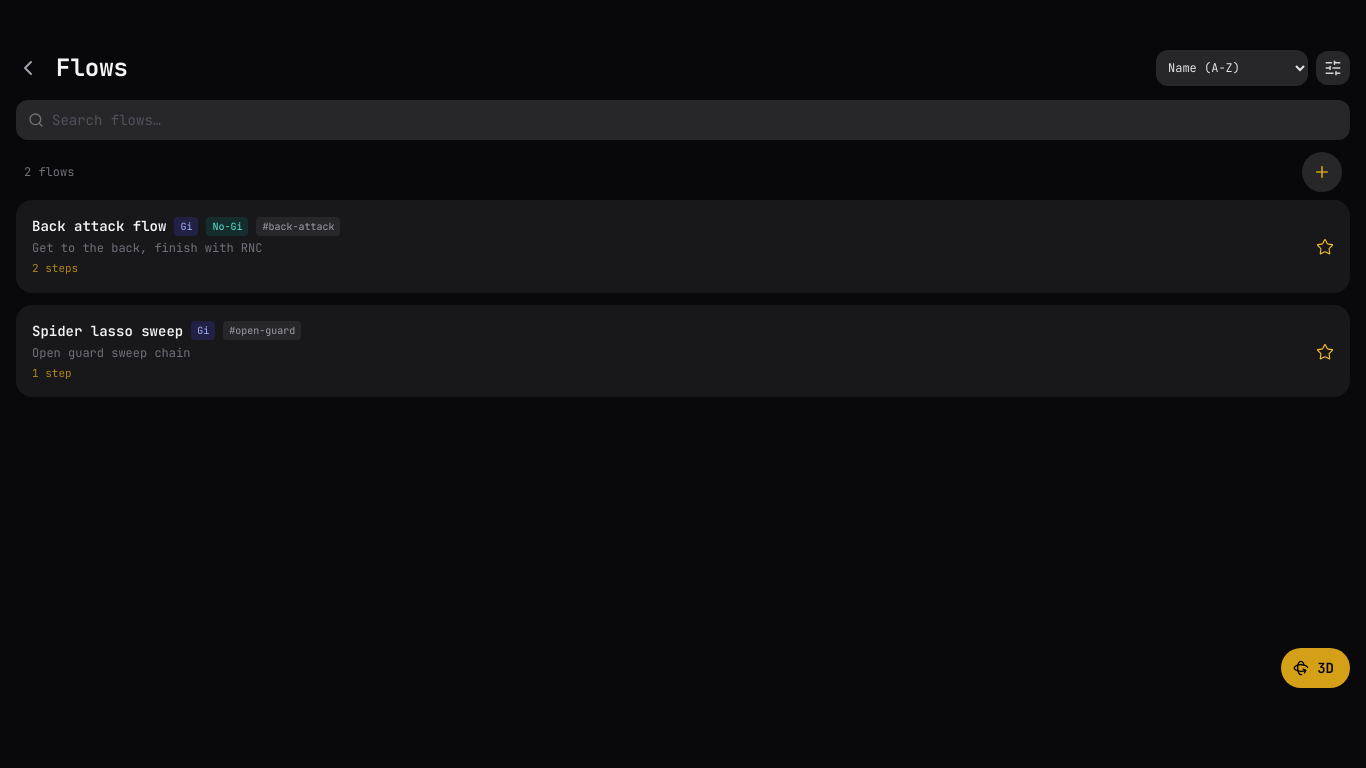
Test: FlowsPage › filters by referenced technique name
Step 1. Type "rear naked" into the field with placeholder "Search flows…" → (683, 120), box x1=16 y1=100 x2=1350 y2=140
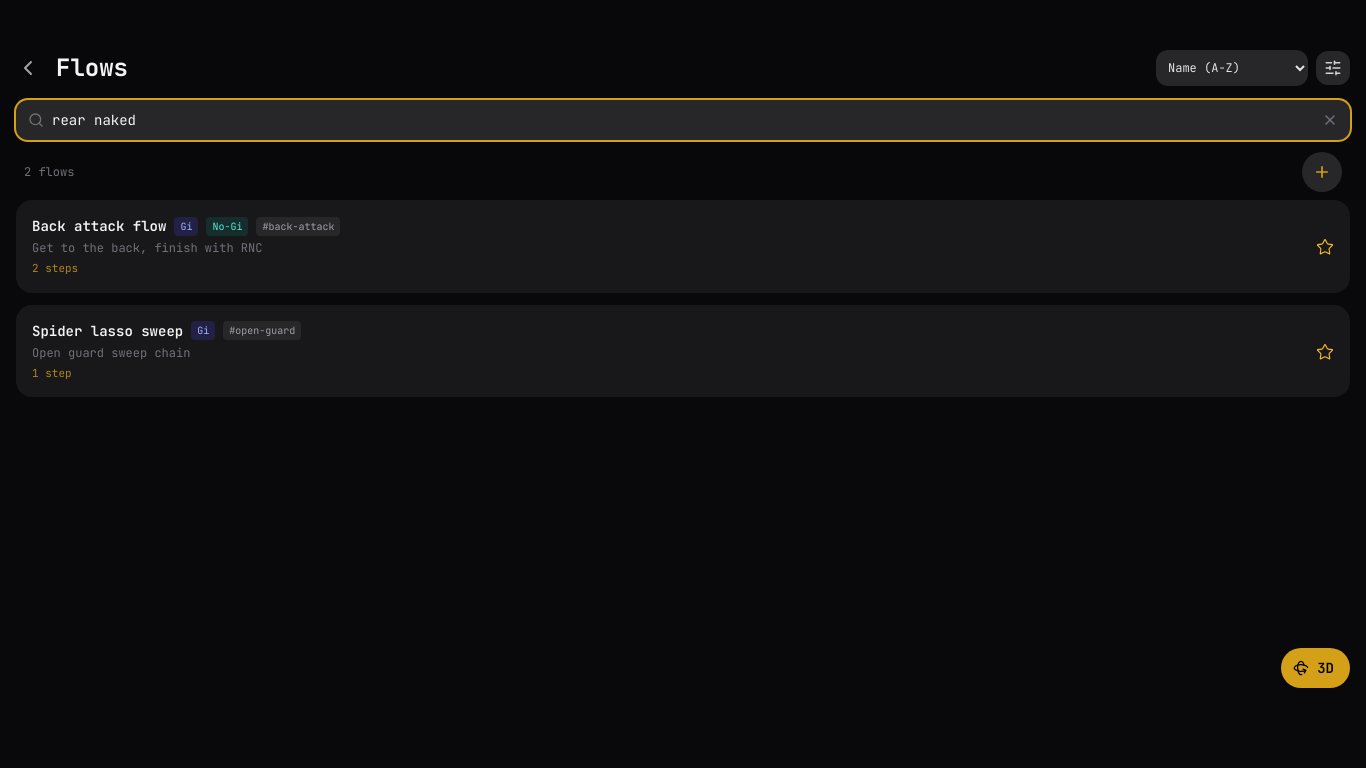
Check: the text "Back attack flow" is shown, box x1=32 y1=216 x2=166 y2=236
Check: the text "Spider lasso sweep" is shown, box x1=32 y1=320 x2=183 y2=340
Typing something unique to flow 1 only:
Step 2. Replace the text in the field with placeholder "Search flows…" with "back attack" → (683, 120), box x1=16 y1=100 x2=1350 y2=140
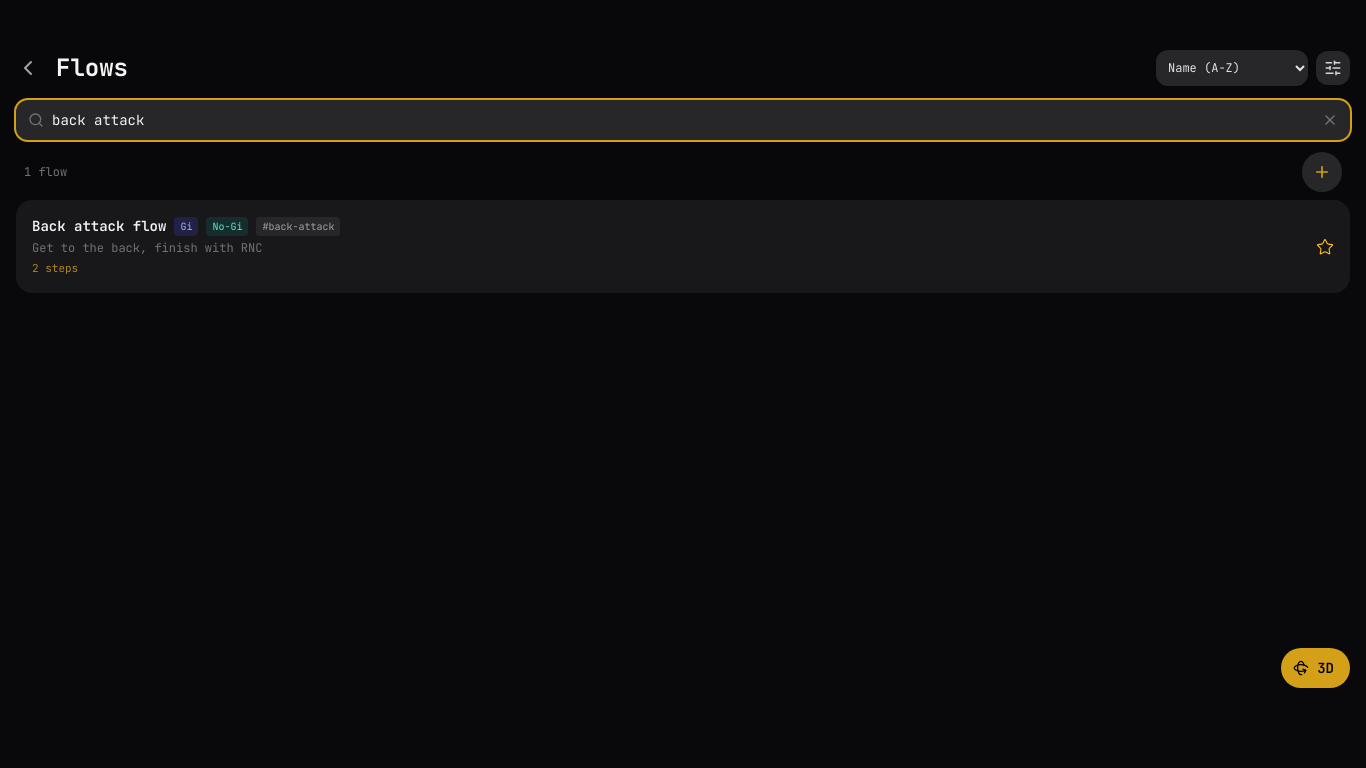
Check: the text "Back attack flow" is shown, box x1=32 y1=216 x2=166 y2=236
Check: the button "Spider lasso sweep" is gone
